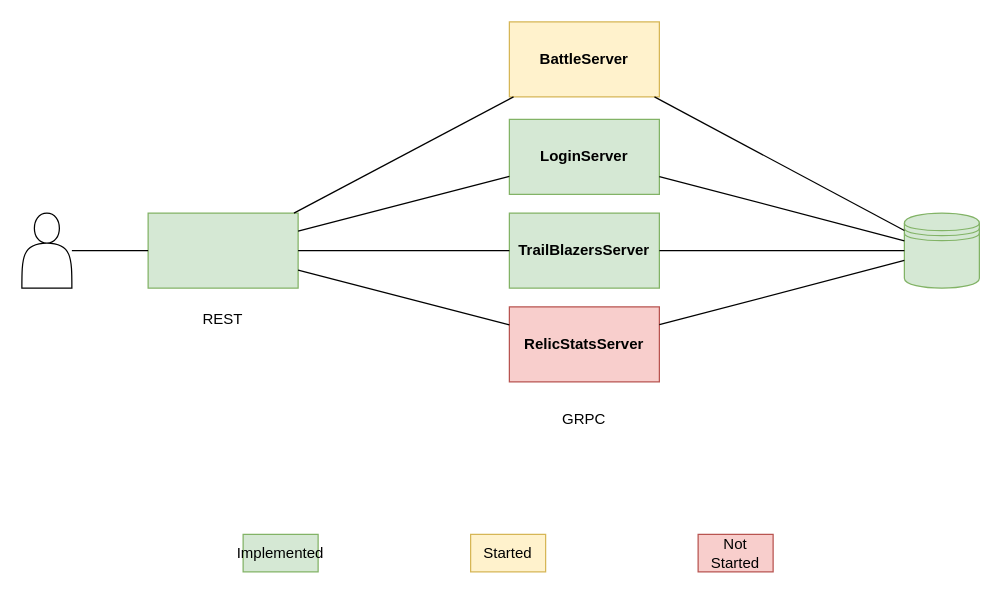
Some shapes in this 1001 by 594 pixel diagram are drawn without their labels. The centre of each missing label's shape, as x and y in pixels:
"MainServer" goes at point 222,250.
"MongoDB" goes at point 941,250.
